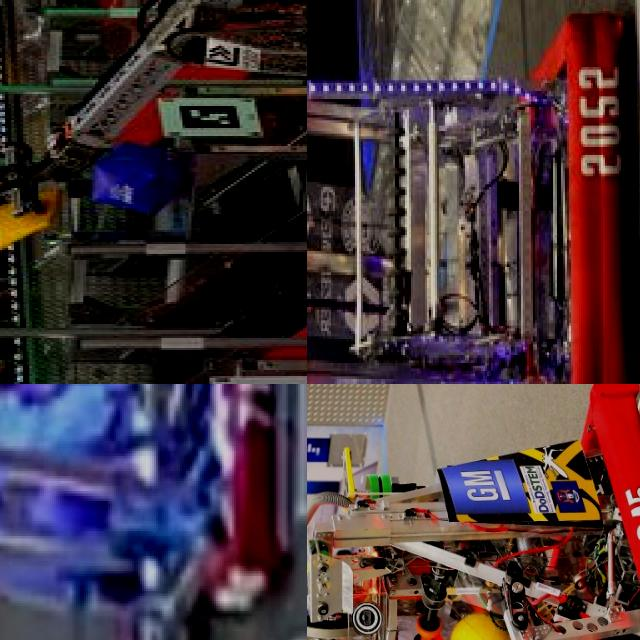FRC-Robots: (307, 0, 640, 384), (307, 384, 640, 640), (0, 384, 290, 640), (151, 0, 307, 241)
